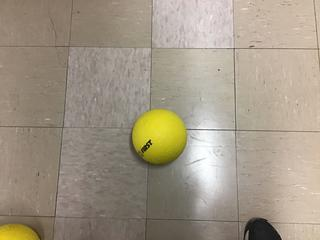power_cell: (132, 107, 185, 171)
